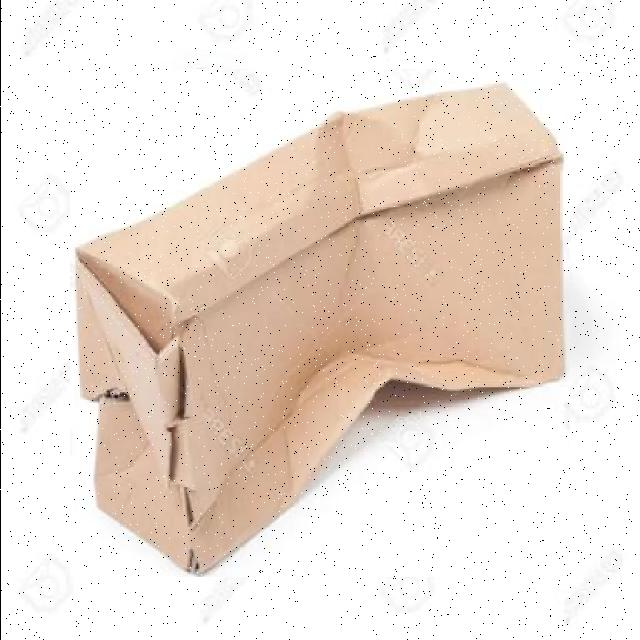defect: (69, 69, 569, 577)
